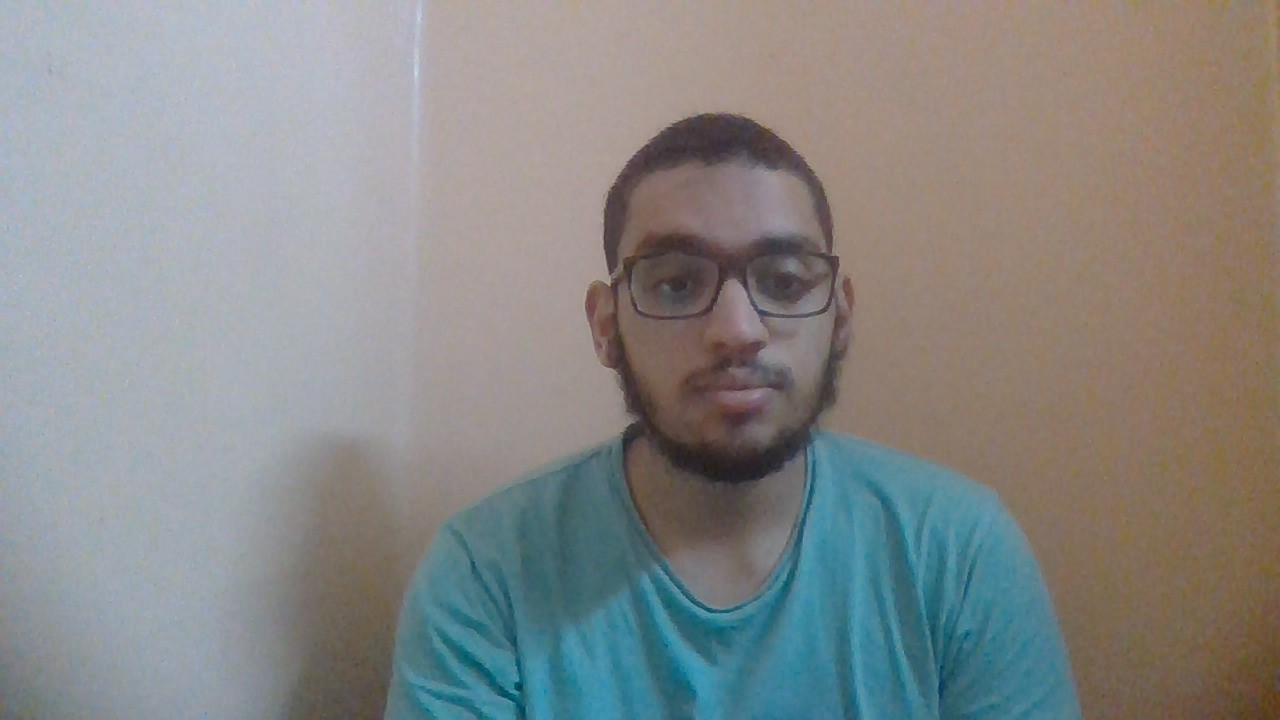Nomask: (582, 315, 856, 481)
